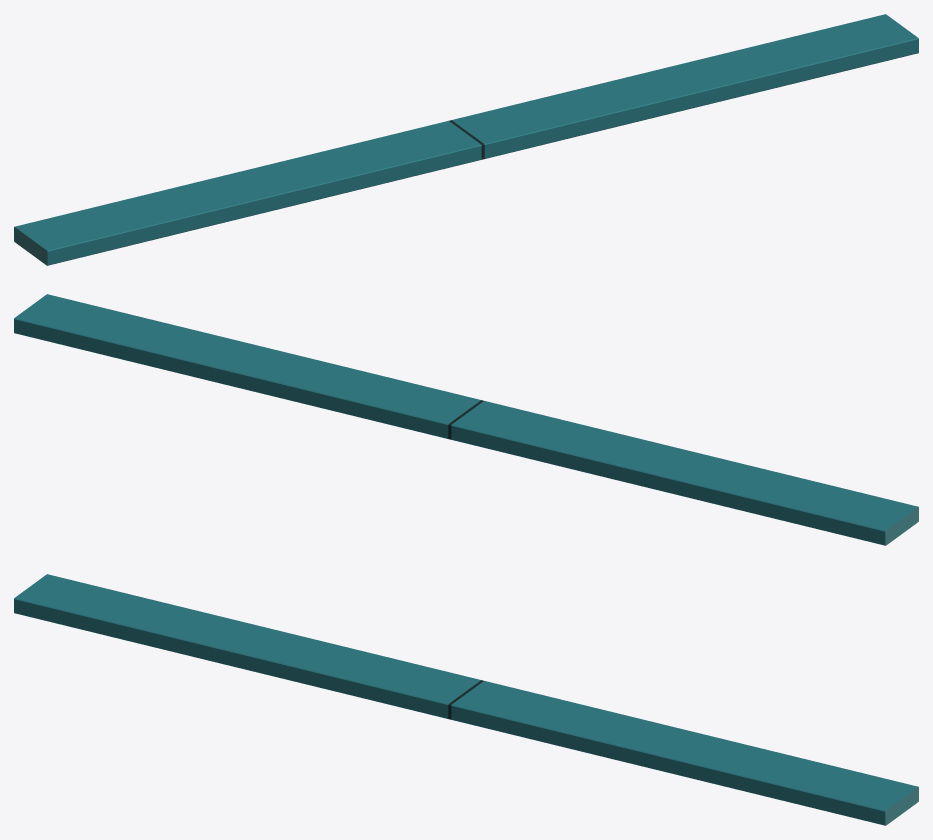
Rendered from VLAB_beam.fbx.
3 renders of one model, top to bottom at view 1: azimuth 30°, elevation 25°; view 2: azimuth 150°, elevation 25°; view 3: azimuth 330°, elevation 25°, orthographic.
Visible parts, largest first — view 1: VLAB_beam_BeamRest_VIS; view 2: VLAB_beam_BeamRest_VIS; view 3: VLAB_beam_BeamRest_VIS.
Part boxes in pixels (x1,y1,x2,y2): VLAB_beam_BeamRest_VIS: [14, 14, 918, 265]; VLAB_beam_BeamRest_VIS: [14, 294, 918, 545]; VLAB_beam_BeamRest_VIS: [14, 574, 918, 825].
Bounding box in the file's own units: 0.3 × 0.005 × 0.02.
